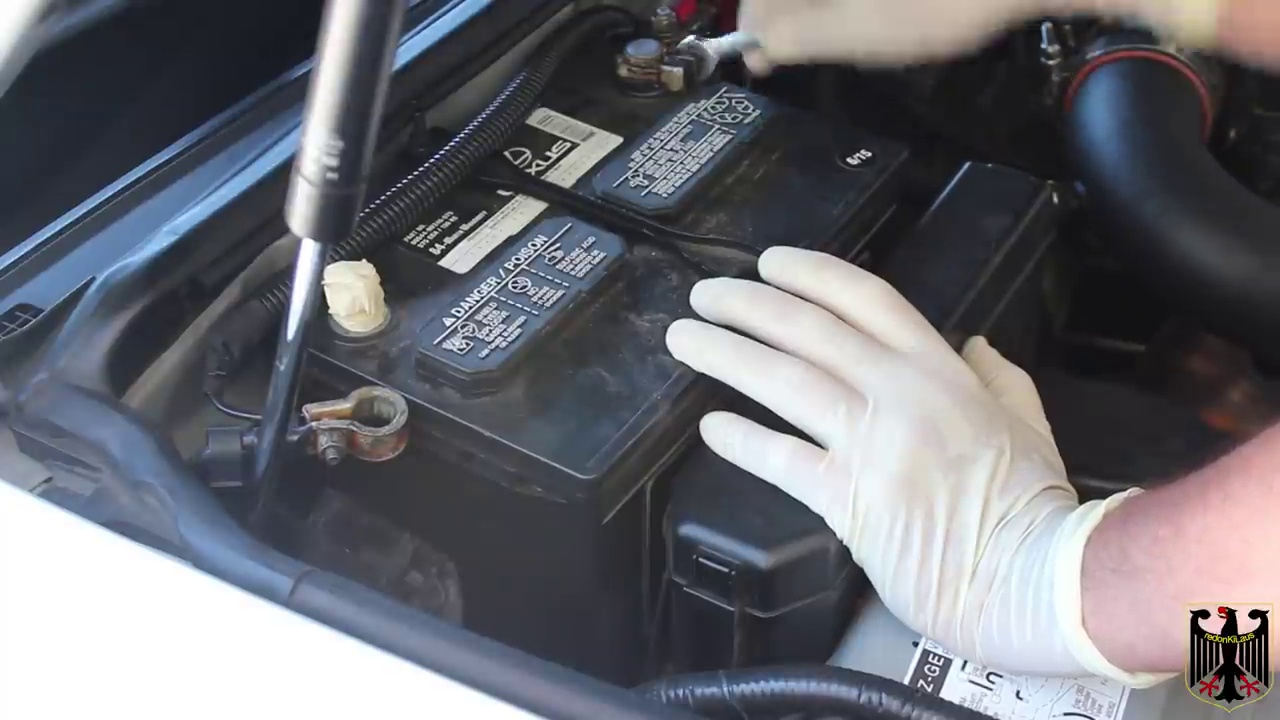battery: (268, 42, 918, 487)
